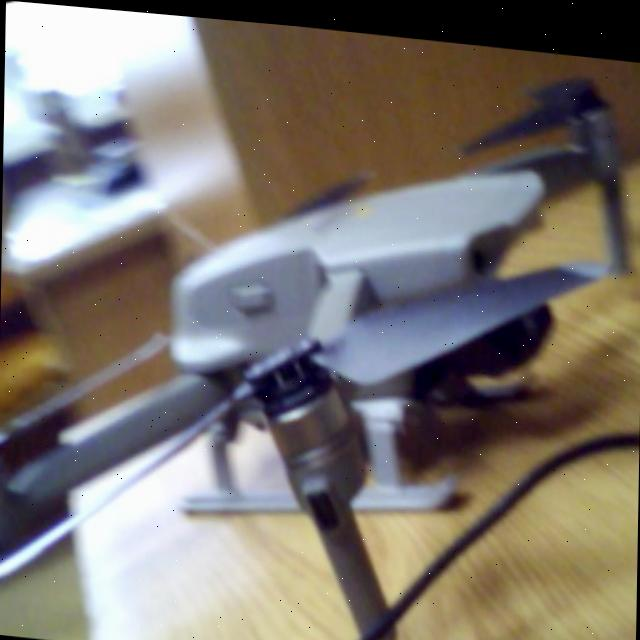drone: (0, 46, 640, 619)
